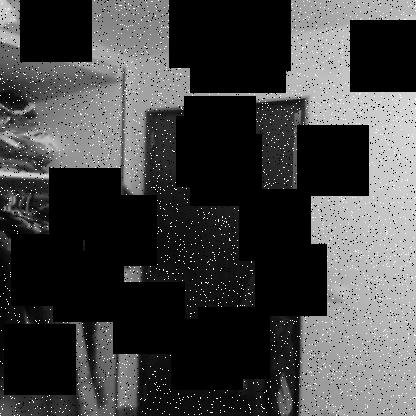Porte: (132, 95, 312, 416)
